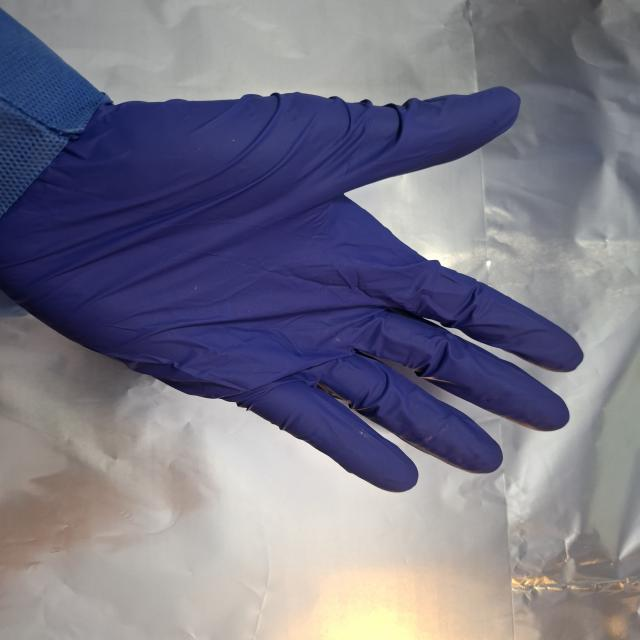glove_on: (2, 83, 590, 497)
